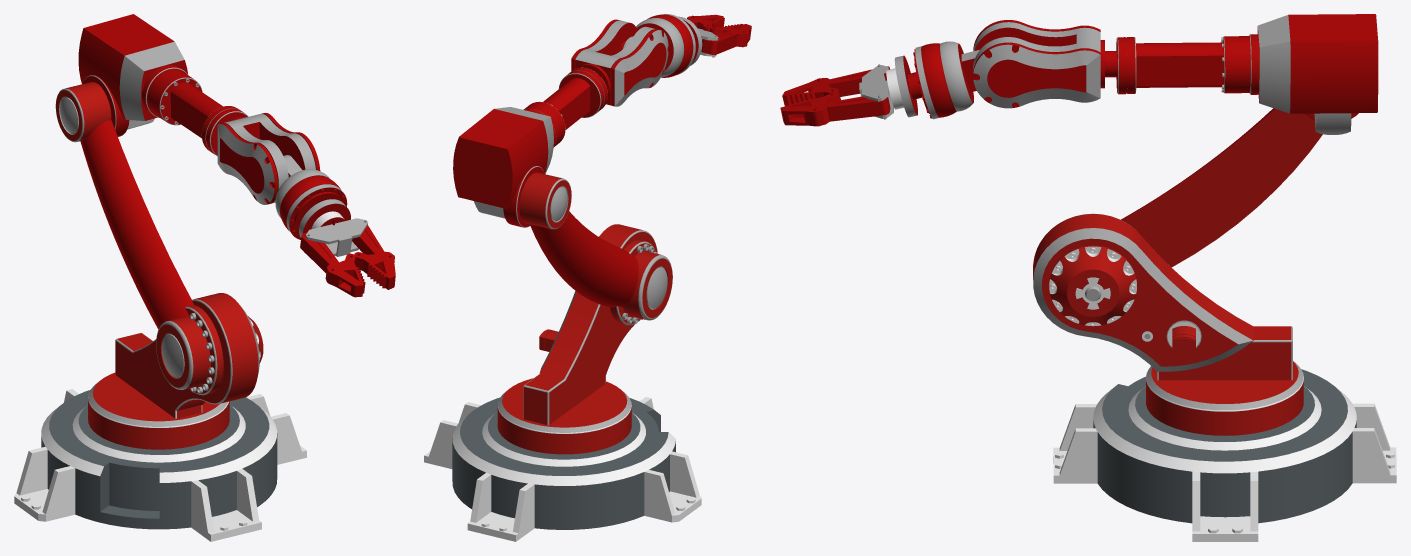
The model's file is Robot_Arm.glb.
The picture shows the model from 3 angles, left to right: view 1: azimuth 30°, elevation 25°; view 2: azimuth 150°, elevation 25°; view 3: azimuth 270°, elevation 25°; orthographic projection. The views are drawn at different scales.
Visible parts, largest first — view 1: base.001, Part2.001, base, Part4.001, Part3.001, Part3.002, Part5, Part4, Part5.001, Part3, Part8.001, Part6.001 (+5 smaller); view 2: Part2.001, base.001, base, Part4.001, Part3.001, Part3.002, Part5, Part5.001, Part3, Part2, Part4, Part8.001 (+4 smaller); view 3: Part2.001, base.001, Part4.001, base, Part3.002, Part2, Part5, Part5.001, Part4, Part8, Part6.001, Part2.002 (+3 smaller).
Part boxes in pixels (bbox=[...]): base.001: bbox=[41, 390, 277, 529]; Part2.001: bbox=[88, 293, 263, 449]; base: bbox=[14, 389, 306, 541]; Part4.001: bbox=[78, 14, 247, 155]; Part3.001: bbox=[80, 120, 193, 329]; Part3.002: bbox=[56, 82, 223, 394]; Part5: bbox=[217, 114, 315, 204]; Part4: bbox=[83, 41, 248, 156]; Part5.001: bbox=[220, 113, 320, 204]; Part3: bbox=[55, 88, 217, 395]; Part8.001: bbox=[300, 232, 365, 297]; Part6.001: bbox=[279, 160, 347, 239]; Part2.001: bbox=[497, 224, 657, 454]; base.001: bbox=[452, 397, 675, 529]; base: bbox=[424, 397, 701, 541]; Part4.001: bbox=[453, 68, 607, 227]; Part3.001: bbox=[530, 211, 638, 307]; Part3.002: bbox=[519, 172, 672, 324]; Part5: bbox=[575, 20, 668, 106]; Part5.001: bbox=[571, 19, 668, 106]; Part3: bbox=[545, 178, 672, 325]; Part2: bbox=[498, 230, 657, 432]; Part4: bbox=[474, 67, 607, 227]; Part8.001: bbox=[701, 24, 751, 54]; Part2.001: bbox=[1033, 214, 1303, 435]; base.001: bbox=[1093, 369, 1356, 523]; Part4.001: bbox=[1116, 14, 1378, 120]; base: bbox=[1053, 385, 1396, 541]; Part3.002: bbox=[1121, 109, 1322, 267]; Part2: bbox=[1033, 213, 1303, 410]; Part5: bbox=[973, 22, 1100, 108]; Part5.001: bbox=[973, 20, 1117, 107]; Part4: bbox=[1117, 15, 1351, 134]; Part8: bbox=[780, 92, 890, 126]; Part6.001: bbox=[907, 43, 976, 118]; Part2.002: bbox=[1049, 246, 1303, 411].
Bounding box in the file's own units: 0.3907 × 0.5683 × 0.7016.
